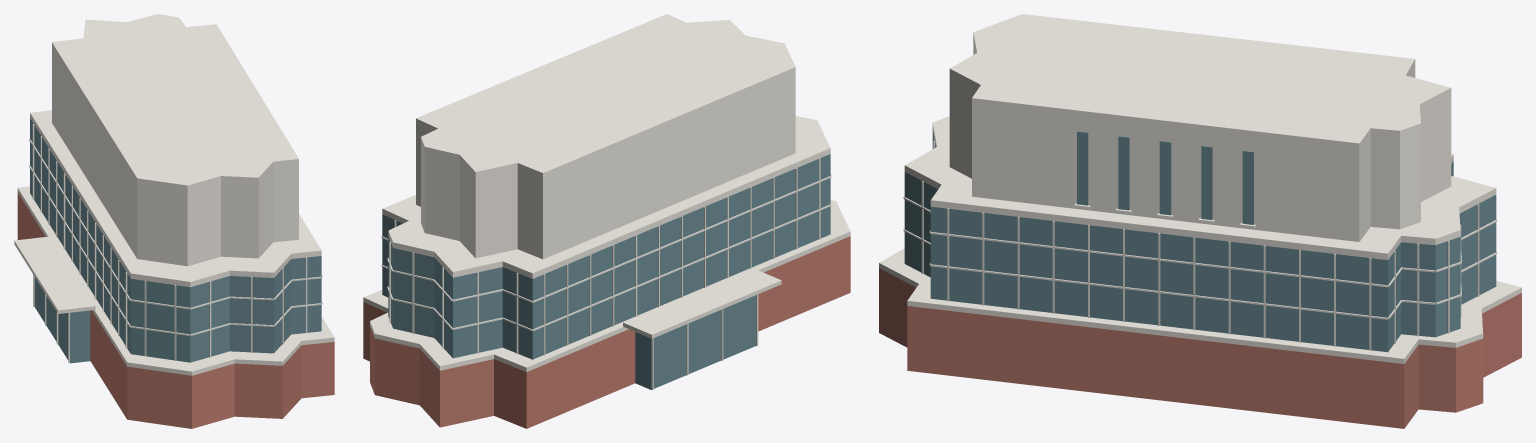
The model's file is tang.glb.
3 views of the same model, side by side, from view 1: azimuth 30°, elevation 25°; view 2: azimuth 150°, elevation 25°; view 3: azimuth 270°, elevation 25° (orthographic). The views are drawn at different scales.
Visible parts, largest first — view 1: TPY_roof_slab, TPY_glass, TPY_upper, TPY_podium, TPY_band_1, TPY_band_0, TPY_canopy, TPY_atrium, DETAIL_window_batch_TPY_white; view 2: TPY_glass, TPY_roof_slab, TPY_upper, TPY_podium, TPY_band_1, TPY_atrium, TPY_band_0, TPY_canopy, DETAIL_window_batch_TPY_white; view 3: TPY_glass, TPY_roof_slab, TPY_podium, TPY_upper, TPY_band_1, TPY_band_0, DETAIL_window_batch_TPY_white, TPY_slit_2, TPY_slit_0, TPY_slit_1, TPY_slit_3, TPY_slit_4.
Part boxes in pixels (left/top/right/bottom): TPY_roof_slab: left=52, top=14, right=298, bottom=191; TPY_glass: left=30, top=118, right=321, bottom=362; TPY_upper: left=52, top=49, right=298, bottom=266; TPY_podium: left=17, top=192, right=334, bottom=428; TPY_band_1: left=30, top=110, right=321, bottom=287; TPY_band_0: left=17, top=186, right=334, bottom=375; TPY_canopy: left=14, top=236, right=95, bottom=313; TPY_atrium: left=34, top=277, right=90, bottom=363; DETAIL_window_batch_TPY_white: left=29, top=138, right=322, bottom=335; TPY_glass: left=382, top=154, right=830, bottom=359; TPY_roof_slab: left=416, top=14, right=795, bottom=179; TPY_upper: left=416, top=74, right=795, bottom=259; TPY_podium: left=363, top=236, right=850, bottom=428; TPY_band_1: left=382, top=116, right=830, bottom=278; TPY_atrium: left=635, top=295, right=755, bottom=389; TPY_band_0: left=363, top=200, right=850, bottom=371; TPY_canopy: left=623, top=268, right=781, bottom=338; DETAIL_window_batch_TPY_white: left=381, top=174, right=831, bottom=330; TPY_glass: left=904, top=130, right=1496, bottom=352; TPY_roof_slab: left=949, top=14, right=1451, bottom=151; TPY_podium: left=879, top=268, right=1521, bottom=428; TPY_upper: left=949, top=40, right=1451, bottom=241; TPY_band_1: left=904, top=116, right=1496, bottom=259; TPY_band_0: left=879, top=248, right=1521, bottom=363; DETAIL_window_batch_TPY_white: left=903, top=196, right=1497, bottom=319; TPY_slit_2: left=1159, top=141, right=1171, bottom=215; TPY_slit_0: left=1077, top=131, right=1088, bottom=205; TPY_slit_1: left=1118, top=136, right=1129, bottom=210; TPY_slit_3: left=1201, top=145, right=1212, bottom=219; TPY_slit_4: left=1242, top=150, right=1253, bottom=224.
Size of the model in its own units: 27.68 by 20.6 by 44.92.
